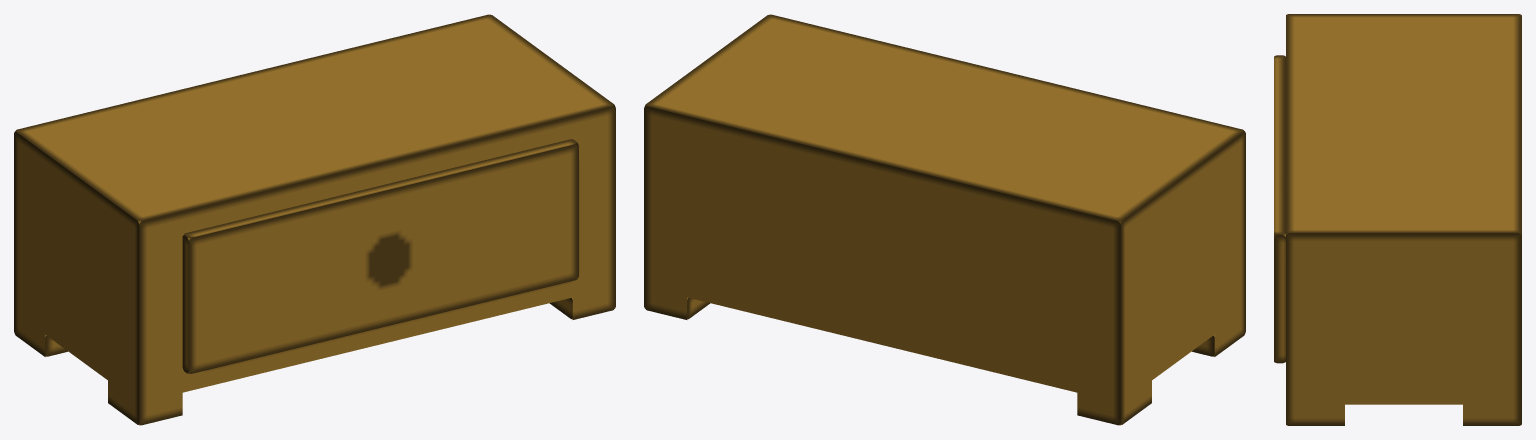
File: small_cabinet.fbx
3 views of the same model, side by side, from view 1: azimuth 30°, elevation 25°; view 2: azimuth 150°, elevation 25°; view 3: azimuth 270°, elevation 25° (orthographic). The views are drawn at different scales.
Parts seen in each view (by area): view 1: cube; view 2: cube; view 3: cube.
Part boxes in pixels (x1=…): cube: x1=14, y1=14, x2=615, y2=425; cube: x1=644, y1=14, x2=1245, y2=425; cube: x1=1274, y1=14, x2=1521, y2=425.
Size of the model in its own units: 138 by 56.25 by 65.62.
Materials: 1 (1 with a texture image).
